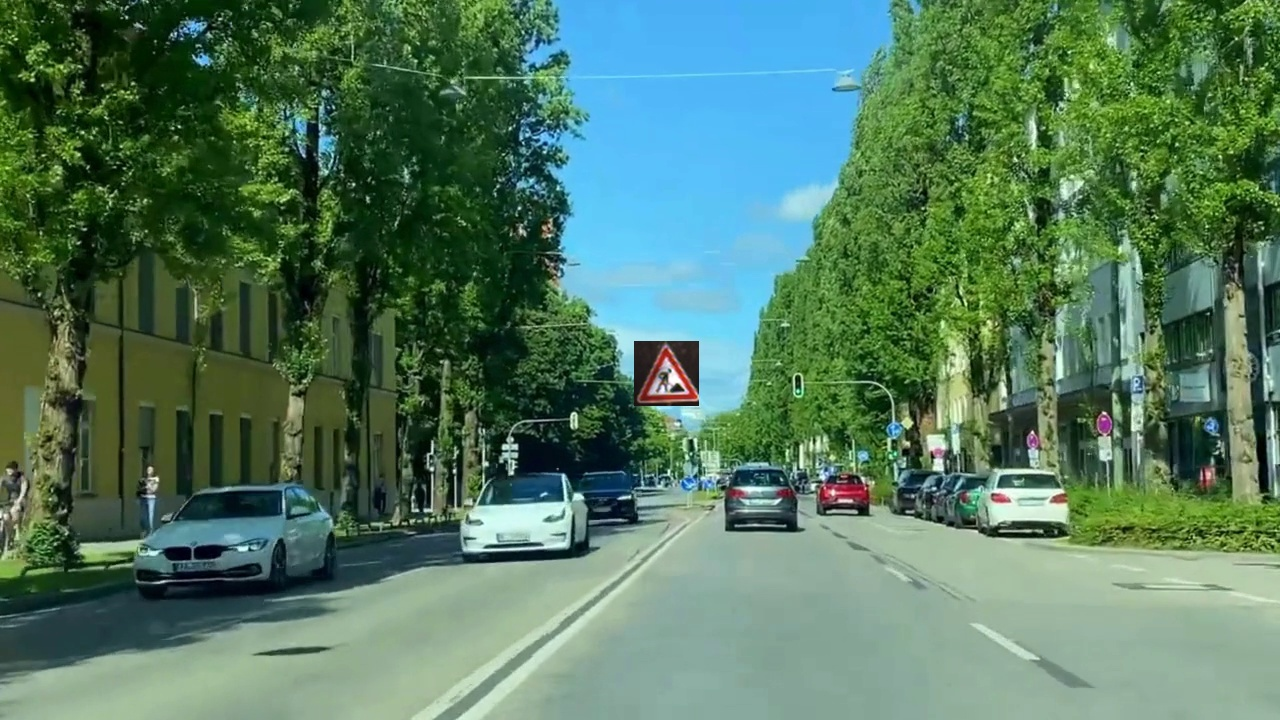Road work: (634, 341, 699, 406)
